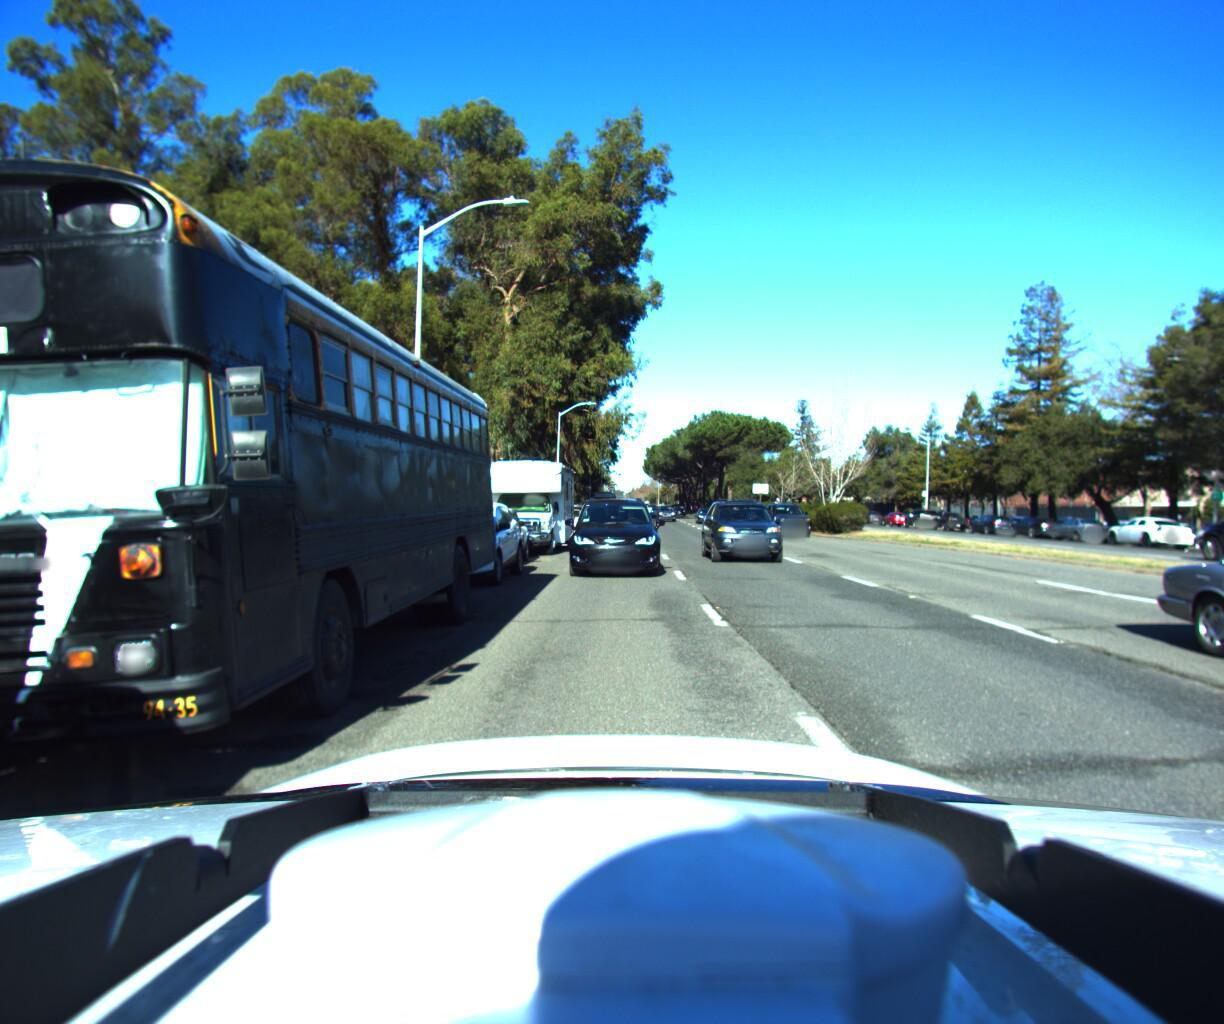bus: (0, 41, 503, 883)
car: (391, 503, 527, 598), (564, 496, 658, 585), (698, 495, 799, 570), (437, 507, 533, 577), (1151, 501, 1224, 567), (1099, 514, 1200, 552), (1045, 515, 1117, 544), (763, 504, 823, 539), (1007, 509, 1072, 540), (965, 511, 1019, 537), (929, 509, 973, 532), (902, 506, 943, 528), (881, 509, 914, 526), (655, 503, 676, 522)
other_vehicle: (469, 449, 577, 560)
